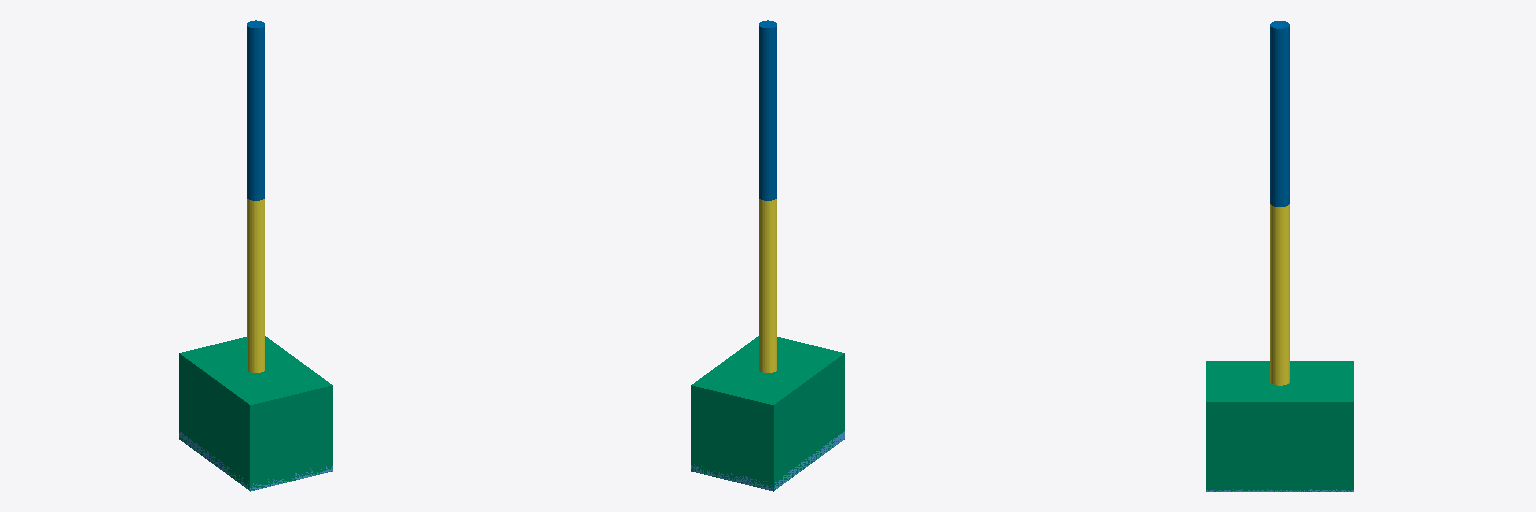
URDF robot description (LISM_Arm):
<?xml version="1.0" ?>
<robot name="LISM_Arm">
     <!--base of fixing arm-->
    <link name="world"/>

    <joint name="worldTobase" type="fixed">
        <parent link="world"/>
        <child link="base"/>
        <origin rpy="0 0 0" xyz="0.0 0.0 0.0"/>
    </joint>
    
    <link name="base">
        <visual>
            <origin rpy="0.0 0.0 0.0" xyz="0 0 0.01"/>
            <geometry>
                <box size = "0.2 0.3 0.02"/>
            </geometry>
        </visual>
    </link>

     <joint name="basetocar" type="prismatic">
        <axis xyz="0 1 0"/>
        <origin rpy="0 0 0" xyz="0.0 0.0 0.0"/>
        <parent link="base"/>
        <child link="car"/>
    </joint>

    <link name="car">
        <visual>
            <origin rpy="0.0 0.0 0.0" xyz="0 0 0.1"/>
            <geometry>
                <box size = "0.2 0.3 0.2"/>
            </geometry>
        </visual>
        <inertial>
            <mass value="0.5"/>
            <origin rpy="0.0 0.0 0.0" xyz="0 0 0.1"/>
            <inertia ixx="0.0104167" ixy="0" ixz="0.0" iyy="0.0104167" iyz="0" izz="0.000225"/>
        </inertial>
    </link>

    <joint name="carToLink" type="revolute">
        <axis xyz="-1 0 0"/>
        <origin rpy="0 0 0" xyz="0.0 0.0 0.2"/>
        <parent link="car"/>
        <child link="link1"/>
    </joint>

    <link name="link1">
        <visual>
            <origin rpy="0.0 0.0 0.0" xyz="0 0 0.2"/>
            <geometry>
                <cylinder length="0.4" radius="0.02"/>
            </geometry>
        </visual>
        <inertial>
            <mass value="0.3"/>
            <origin rpy="0.0 0.0 0.0" xyz="0 0 0.2"/>
            <inertia ixx="0.004" ixy="0" ixz="0.0" iyy="0.0104167" iyz="0" izz="0.000225"/>
        </inertial>
    </link>

    <joint name="l12l2" type="revolute">
        <axis xyz="-1 0 0"/>
        <origin rpy="0 0 0" xyz="0.0 0.0 0.4"/>
        <parent link="link1"/>
        <child link="link2"/>
    </joint>

    <link name="link2">
        <visual>
            <origin rpy="0.0 0.0 0.0" xyz="0 0 0.2"/>
            <geometry>
                <cylinder length="0.4" radius="0.02"/>
            </geometry>
        </visual>
        <inertial>
            <mass value="0.4"/>
            <origin rpy="0.0 0.0 0.0" xyz="0 0 0.2"/>
            <inertia ixx="0.0053" ixy="0" ixz="0.0" iyy="0.0015" iyz="0" izz="0.000225"/>
        </inertial>
    </link>

</robot>

--- Facts derived from the render (not from the file) ---
Views: 3 orthographic renders of the robot side by side, from view 1: azimuth 30°, elevation 25°; view 2: azimuth 150°, elevation 25°; view 3: azimuth 270°, elevation 25°.
Robot: LISM_Arm — 5 links, 4 joints (2 revolute, 1 prismatic, 1 fixed); root link world; default pose: all joints at 0.
Visible links, largest first — view 1: car, link2, link1; view 2: car, link2, link1, base; view 3: car, link2, link1.
Link boxes in pixels (x1,y1,x2,y2): car: (179,336,332,490); link2: (247,20,264,200); link1: (247,199,264,372); car: (691,336,844,491); link2: (759,20,776,200); link1: (759,199,776,372); base: (691,431,844,490); car: (1206,361,1353,491); link2: (1270,21,1289,206); link1: (1270,204,1289,385).
Size in the robot's own frame: 0.2 by 0.3 by 1 metres.
Geometry: primitives only (box / cylinder / sphere), no mesh files.
